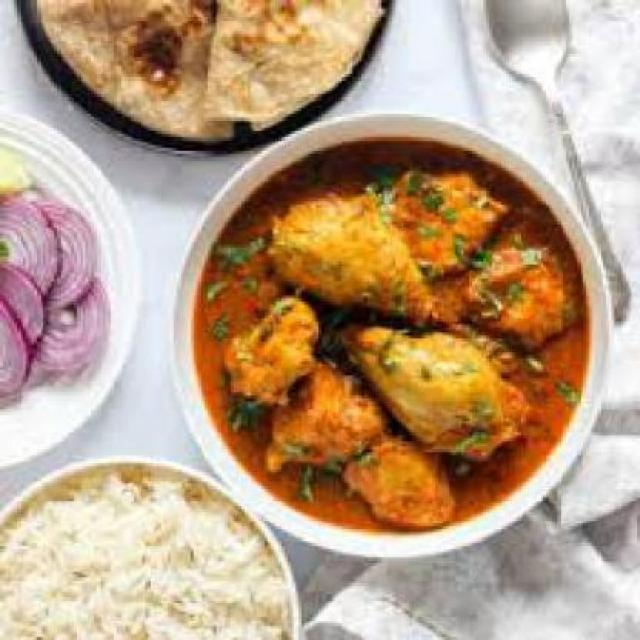CHICKEN CURRY: (190, 132, 591, 530)
RICE: (0, 463, 290, 637)
